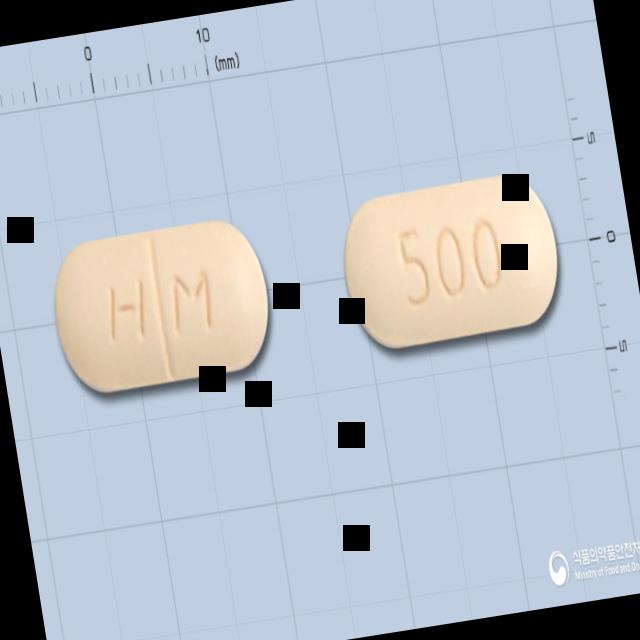Clamicin: (44, 212, 280, 401), (333, 169, 570, 354)
